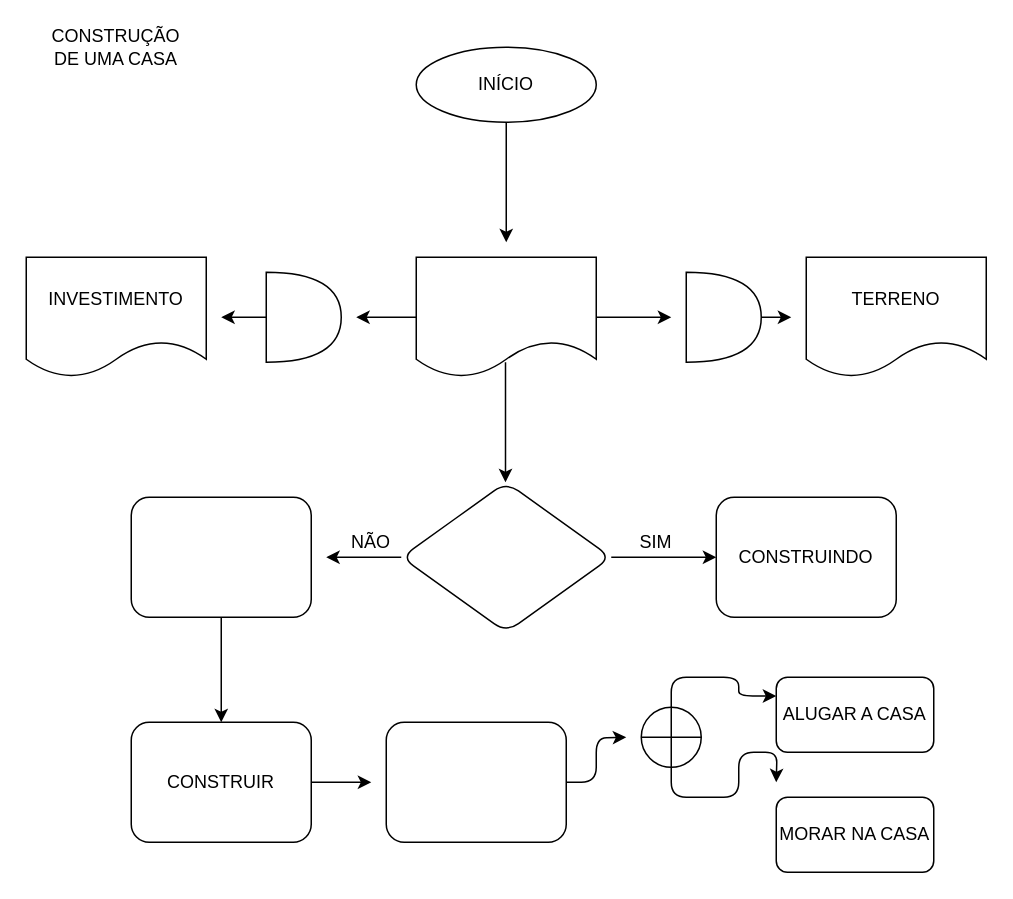
The diagram is 1013 pixels wide and 899 high, and some of its shapes have lost their labels. Each missing label, with the centre of its shape:
APROVAÇÃO DO PROJETO: the point at 505,316
CONTRATAR UM MESTRE DE OBRAS: the point at 220,556
CONTRATAR UMA CONSTRUTORA?: the point at 505,556
PLANEJAMENTO DO DESING: the point at 475,781
